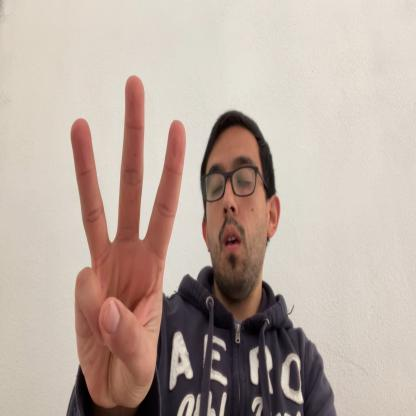W: (71, 73, 186, 416)
